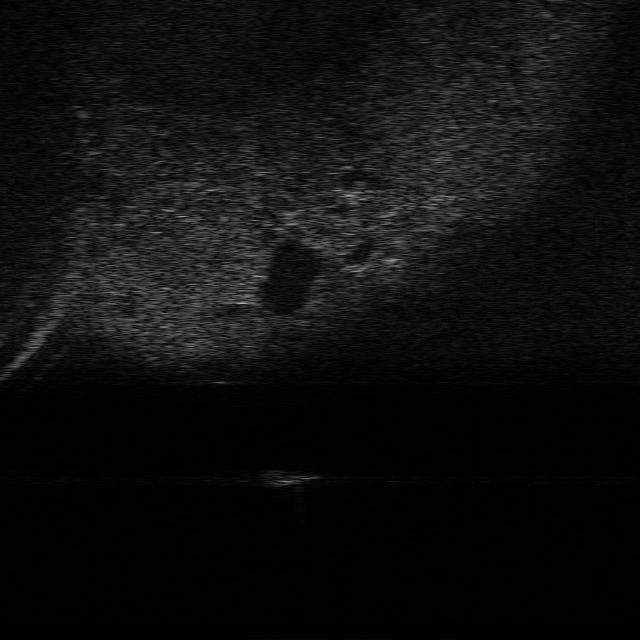cube: (258, 466, 320, 490)
